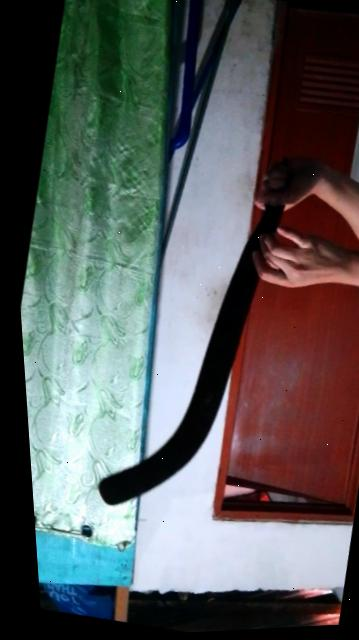long knife: (52, 124, 331, 536)
